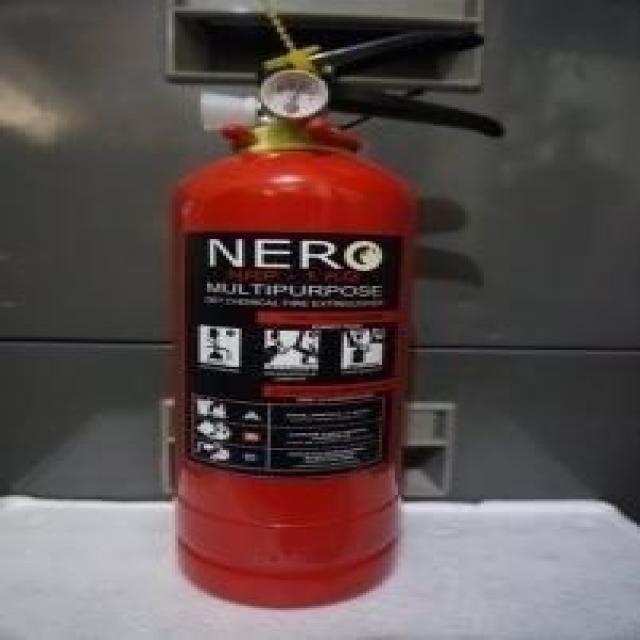fire_extinguisher: (142, 21, 511, 616)
